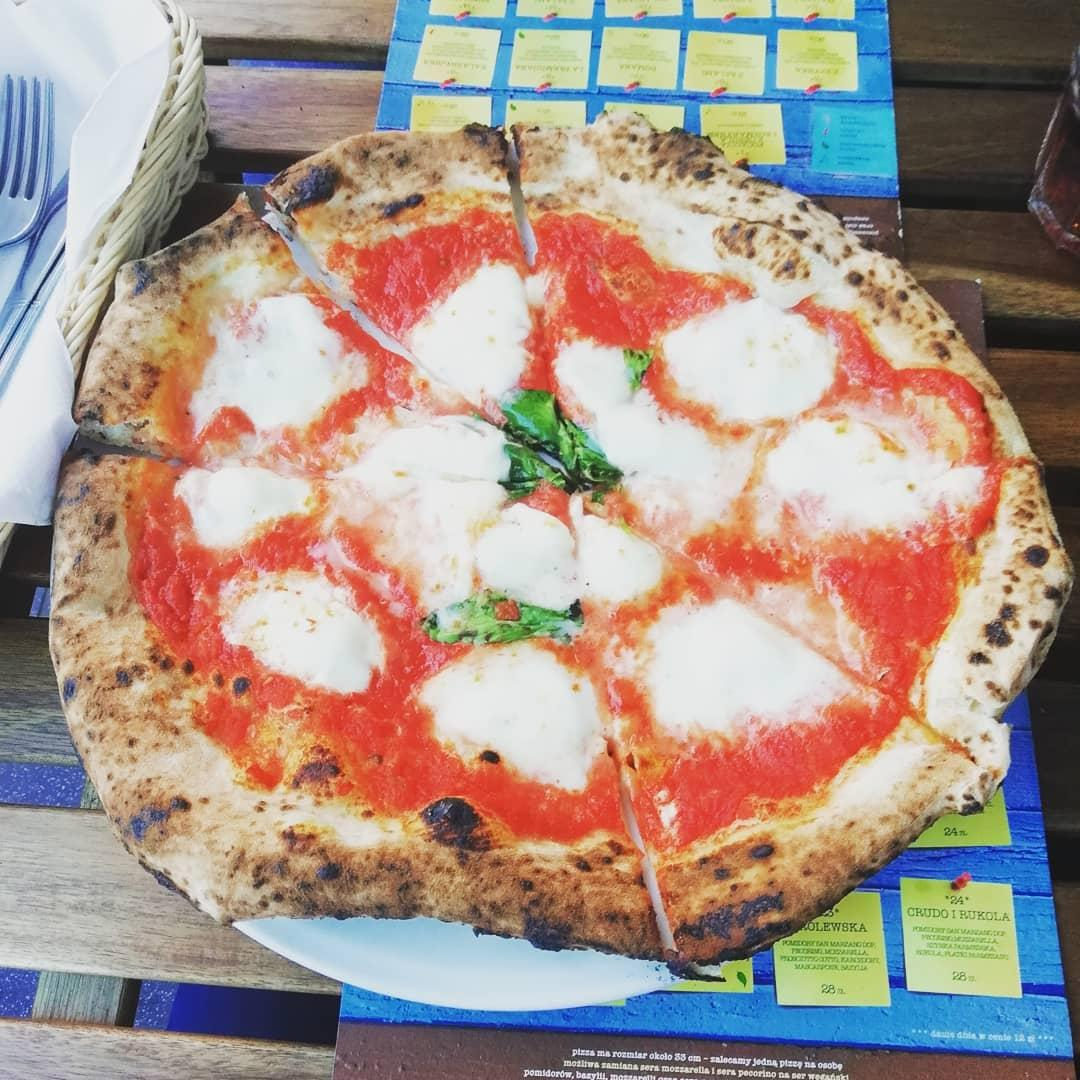Basil: (495, 384, 625, 502), (425, 586, 586, 650), (617, 338, 656, 407)
Cheese: (653, 592, 853, 718), (439, 650, 594, 795), (789, 407, 971, 530), (363, 417, 495, 582), (215, 296, 354, 424), (230, 575, 380, 693), (680, 308, 840, 409), (489, 509, 650, 601), (421, 268, 538, 394), (623, 416, 746, 533), (185, 461, 306, 545), (567, 350, 620, 429)
Pizza: (63, 108, 1063, 971)
